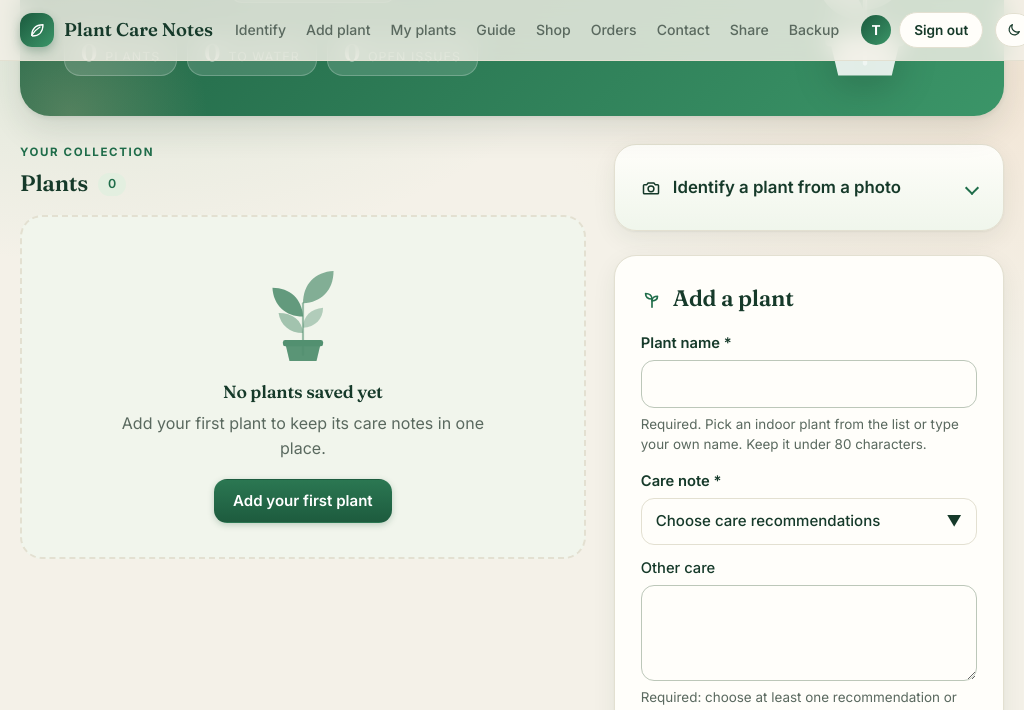
plants live in the account › stores each plant under the signed-in person only
(page scrolled)
Type "Fern" into the field labelled "Plant name *" at (809, 384), box [641,360,977,408]
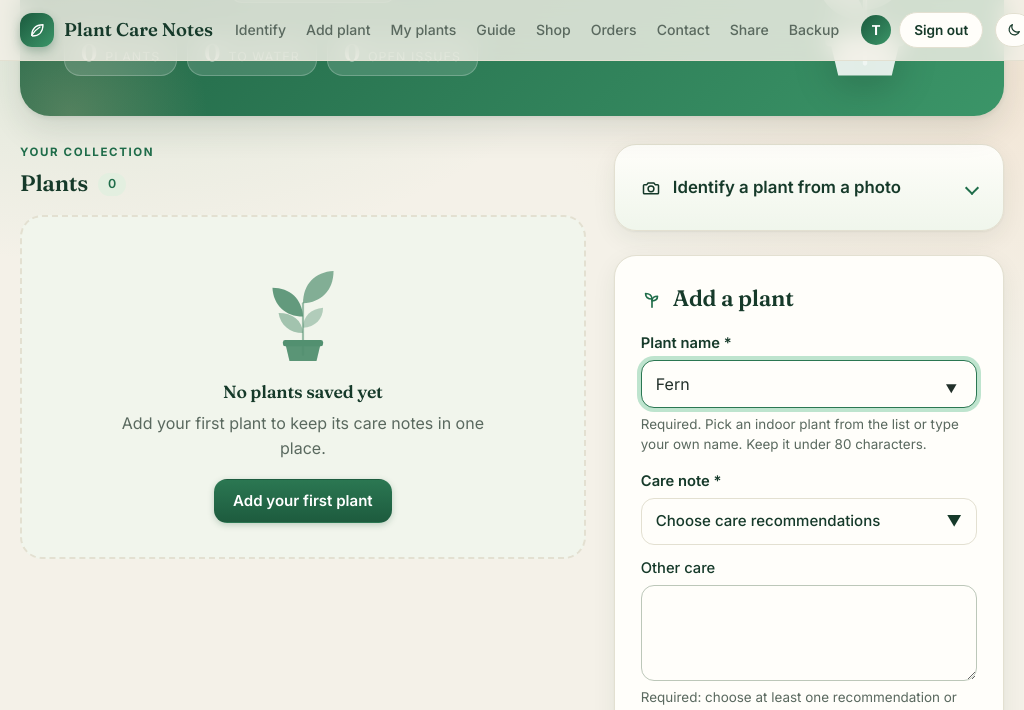
Type "Mist daily" into the text box labelled "Other care" at (809, 633), box [641,585,977,681]
(page scrolled)
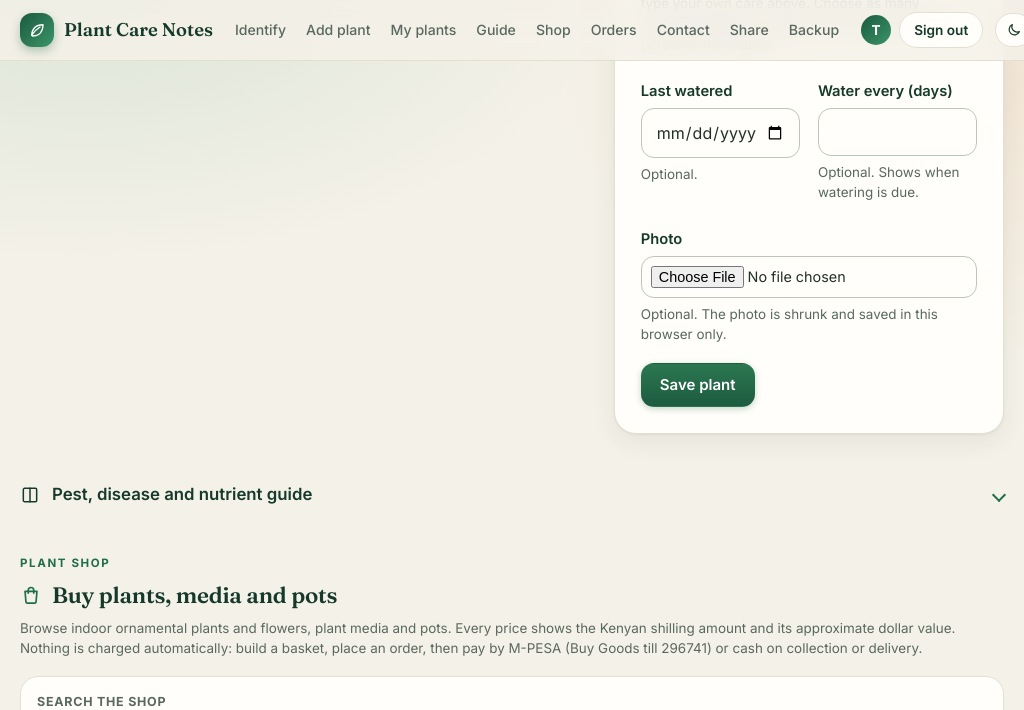
Click the button "Save plant" at (698, 385), box [641,362,755,407]
(page scrolled)
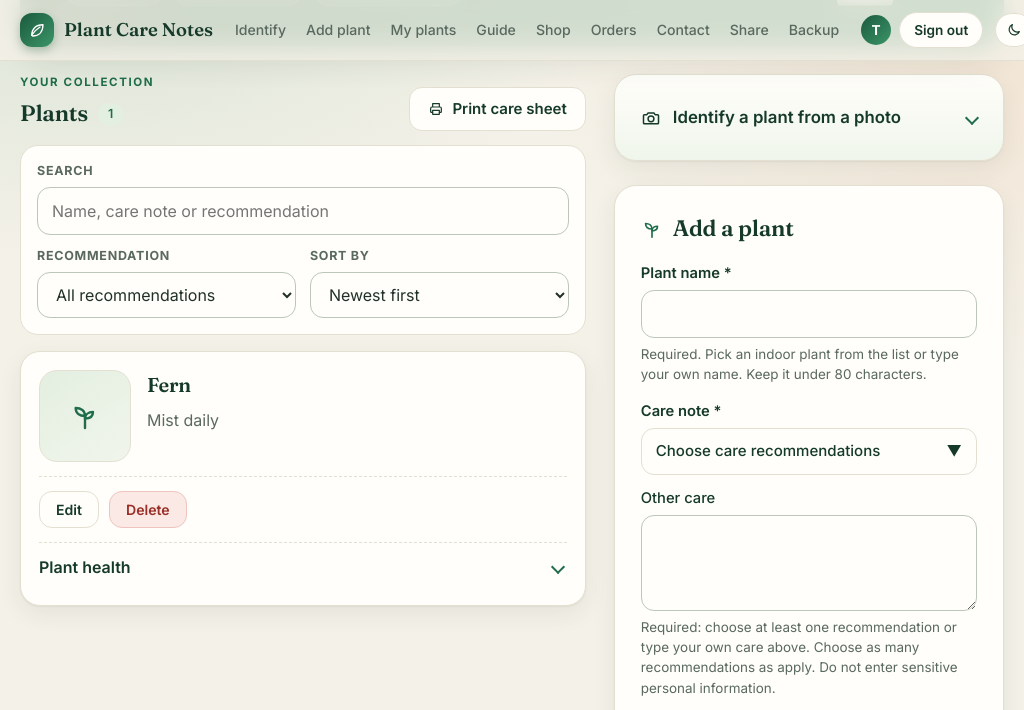
Check: the heading "Fern" is shown, box [147,372,191,396]
